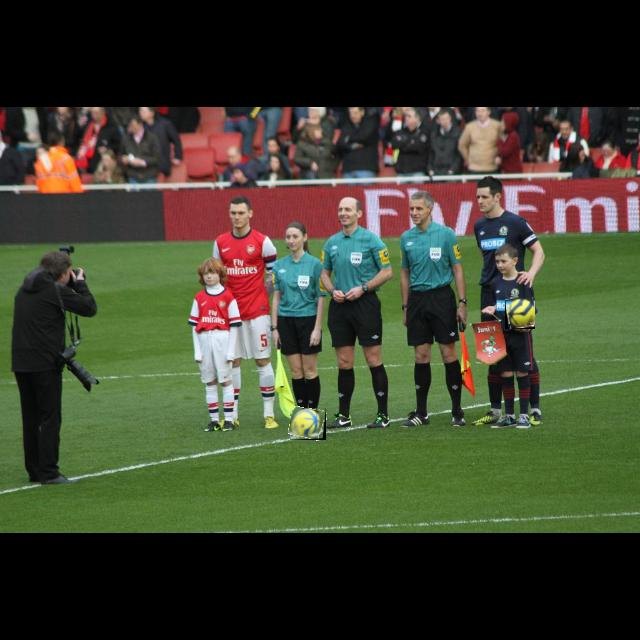Football: (290, 408, 326, 440), (505, 297, 535, 329)
